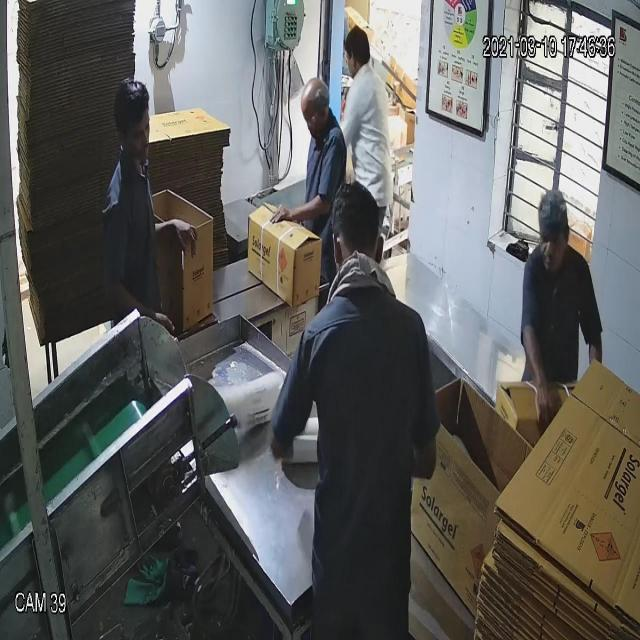No_Gloves: (38, 62, 537, 378)
